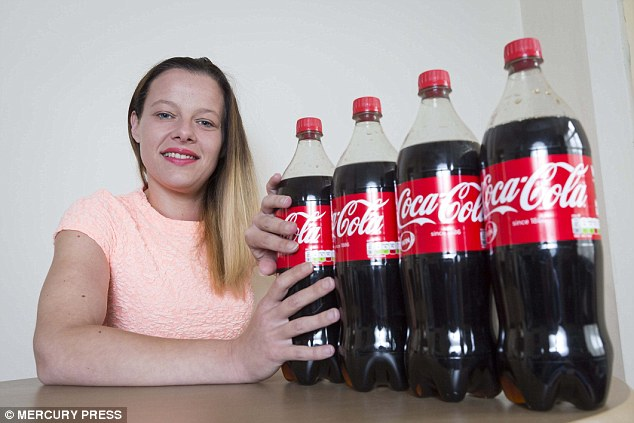coke: (490, 47, 615, 414), (399, 79, 501, 406), (331, 102, 406, 381), (277, 122, 331, 287)
